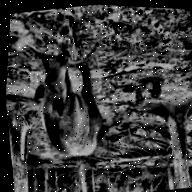boar: (16, 48, 128, 176), (56, 14, 93, 72), (126, 79, 151, 107), (145, 73, 167, 104)
